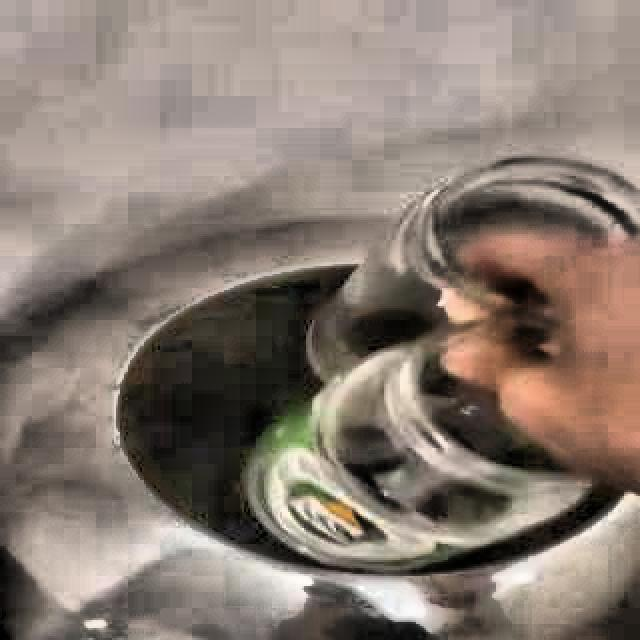glass: (245, 158, 640, 571)
